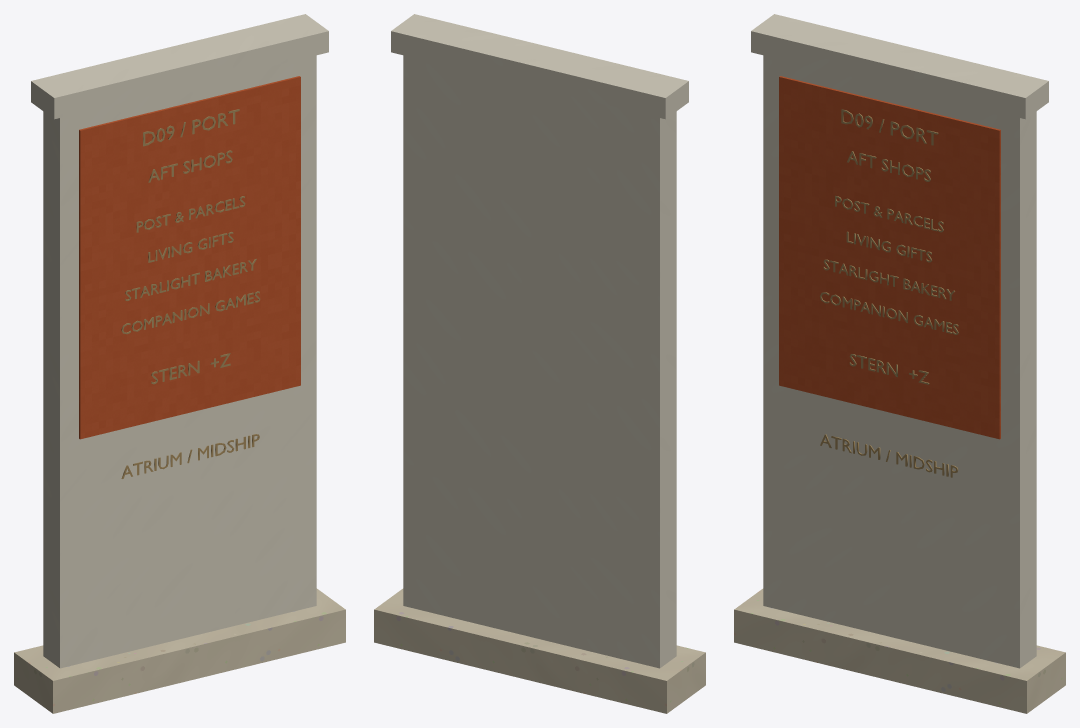
Rendered from guide_port_aft_r001.glb.
3 views of the same model, side by side, from view 1: azimuth 30°, elevation 25°; view 2: azimuth 150°, elevation 25°; view 3: azimuth 330°, elevation 25° (orthographic).
Visible parts, largest first — view 1: profiled_column, recessed_orange_directory, weighted_plinth, crown, atrium, venue_3, venue_2, venue_0, heading, district, venue_1; view 2: profiled_column, weighted_plinth, crown; view 3: profiled_column, recessed_orange_directory, weighted_plinth, crown, atrium, venue_3, venue_2, heading, venue_0, venue_1, district.
Part boxes in pixels (x1=…): profiled_column: x1=43, y1=55, x2=316, y2=668; recessed_orange_directory: x1=79, y1=76, x2=300, y2=439; weighted_plinth: x1=14, y1=588, x2=345, y2=713; crown: x1=31, y1=14, x2=328, y2=119; atrium: x1=121, y1=434, x2=259, y2=478; venue_3: x1=121, y1=291, x2=260, y2=334; venue_2: x1=125, y1=258, x2=256, y2=300; venue_0: x1=136, y1=196, x2=245, y2=232; heading: x1=143, y1=109, x2=239, y2=146; district: x1=148, y1=150, x2=232, y2=182; venue_1: x1=148, y1=232, x2=233, y2=262; profiled_column: x1=403, y1=55, x2=676, y2=668; weighted_plinth: x1=374, y1=588, x2=705, y2=713; crown: x1=391, y1=14, x2=688, y2=119; profiled_column: x1=763, y1=55, x2=1036, y2=668; recessed_orange_directory: x1=779, y1=76, x2=1000, y2=439; weighted_plinth: x1=734, y1=588, x2=1065, y2=713; crown: x1=751, y1=14, x2=1048, y2=119; atrium: x1=820, y1=434, x2=958, y2=477; venue_3: x1=820, y1=292, x2=958, y2=334; venue_2: x1=823, y1=259, x2=954, y2=300; heading: x1=841, y1=109, x2=938, y2=145; venue_0: x1=835, y1=195, x2=943, y2=232; venue_1: x1=846, y1=231, x2=931, y2=262; district: x1=847, y1=151, x2=930, y2=181.
Bounding box in the file's own units: 1.3 × 2.58 × 0.3.
Materials: 4 (4 with a texture image).
